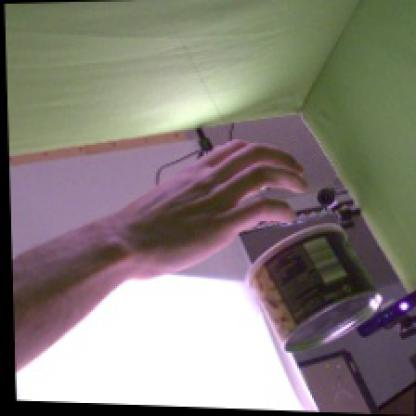Hand: (117, 140, 306, 272)
